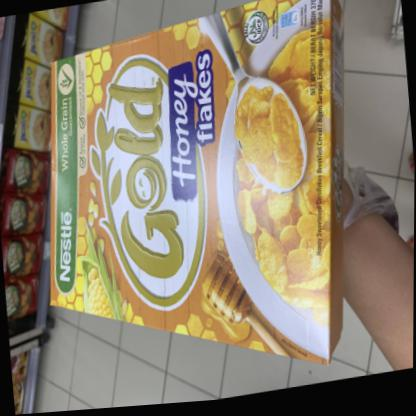cereal box: (22, 0, 376, 414)
